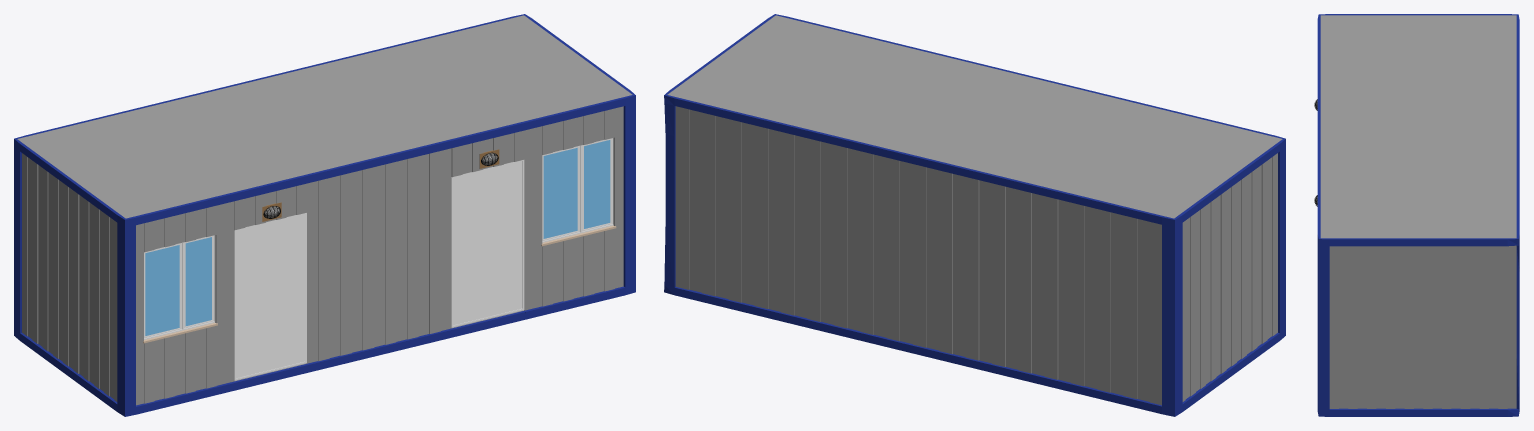
File: container.obj
3 renders of one model, left to right at view 1: azimuth 30°, elevation 25°; view 2: azimuth 150°, elevation 25°; view 3: azimuth 270°, elevation 25°, orthographic. The views are drawn at different scales.
Visible parts, largest first — view 1: Plane_Plane.001, Plane.004_Plane.005, Window.003_Window.007, Plane.002_Plane.003, Window.000_Window.003, Cube.001_Cube.003; view 2: Plane_Plane.001, Plane.004_Plane.005, Plane.002_Plane.003; view 3: Plane_Plane.001, Plane.004_Plane.005, Plane.002_Plane.003.
Boxes of the visible parts, x1,y1,x2,y2 form: Plane_Plane.001: (17,15,632,405); Plane.004_Plane.005: (22,108,614,403); Window.003_Window.007: (234,160,524,380); Plane.002_Plane.003: (14,14,635,416); Window.000_Window.003: (143,138,616,343); Cube.001_Cube.003: (262,149,499,221); Plane_Plane.001: (667,15,1282,401); Plane.004_Plane.005: (675,106,1277,405); Plane.002_Plane.003: (664,14,1285,416); Plane_Plane.001: (1320,15,1516,408); Plane.004_Plane.005: (1329,246,1507,408); Plane.002_Plane.003: (1317,14,1519,416).
Size of the model in its own units: 7.08 by 2.6 by 2.72.
